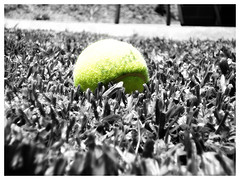tennis ball: (71, 38, 149, 94)
